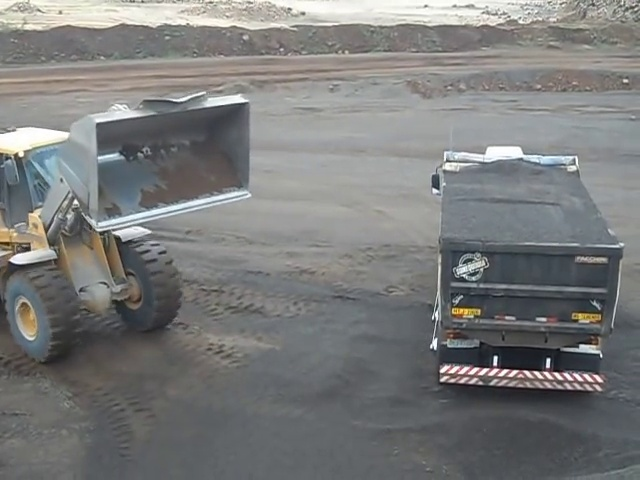truck: (433, 145, 625, 396)
wheel loader: (2, 92, 257, 365)
